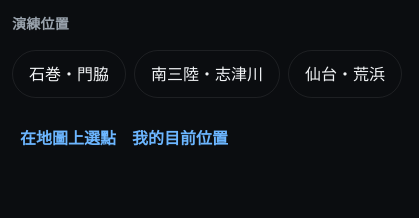
Scenario: shows geoFailed when the device read fails
Click the button "我的目前位置". click: (180, 138)
box: [124,114,236,162]
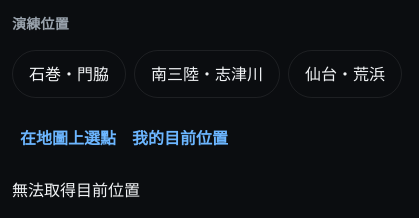
Now the text "無法取得目前位置" is shown, box [12,179,140,201]
